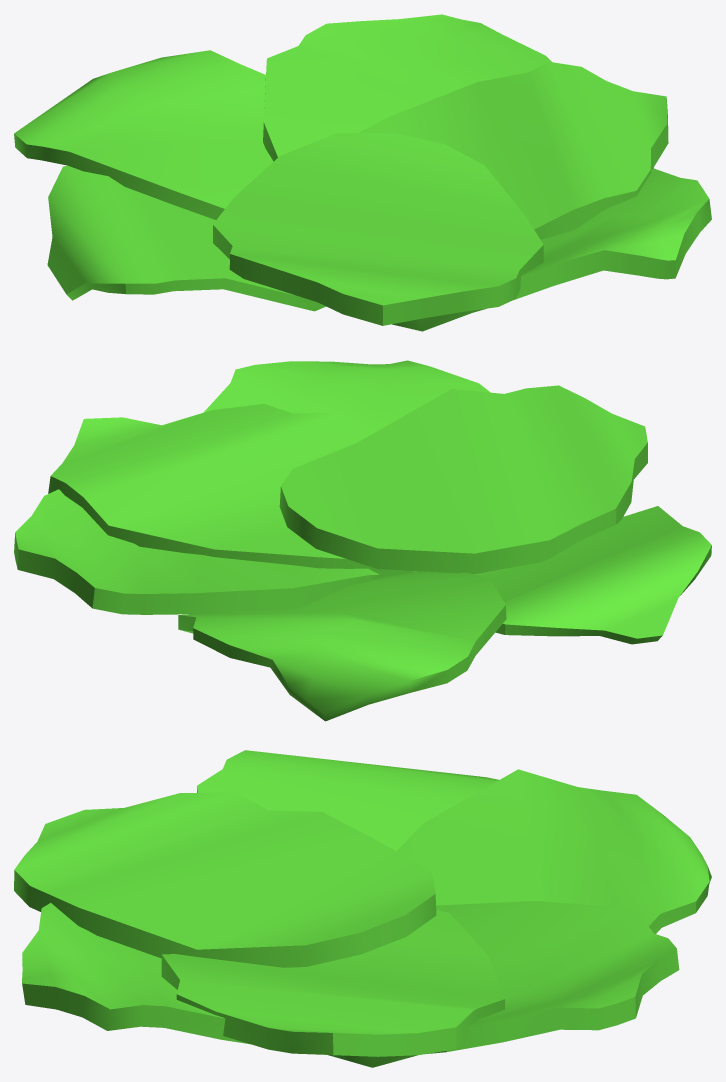
Rendered from SM_Lettuce_Salad.fbx.
3 views of the same model, one above another, from view 1: azimuth 30°, elevation 25°; view 2: azimuth 150°, elevation 25°; view 3: azimuth 270°, elevation 25° (orthographic). The views are drawn at different scales.
Parts seen in each view (by area): view 1: Lettuce_Plate; view 2: Lettuce_Plate; view 3: Lettuce_Plate.
Boxes of the visible parts, x1=… form: Lettuce_Plate: x1=14, y1=14, x2=711, y2=331; Lettuce_Plate: x1=14, y1=360, x2=711, y2=721; Lettuce_Plate: x1=14, y1=750, x2=711, y2=1067.
Size of the model in its own units: 156 by 27.31 by 153.
